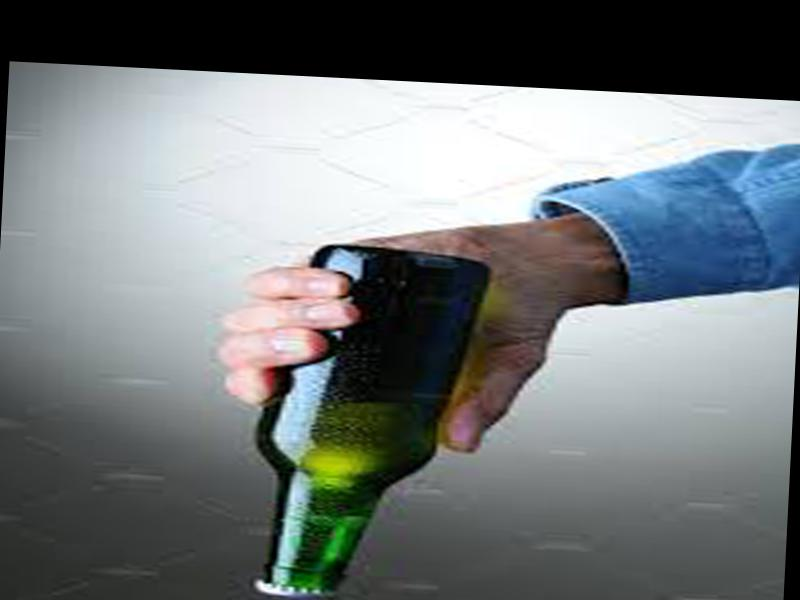Beer: (237, 242, 494, 600)
